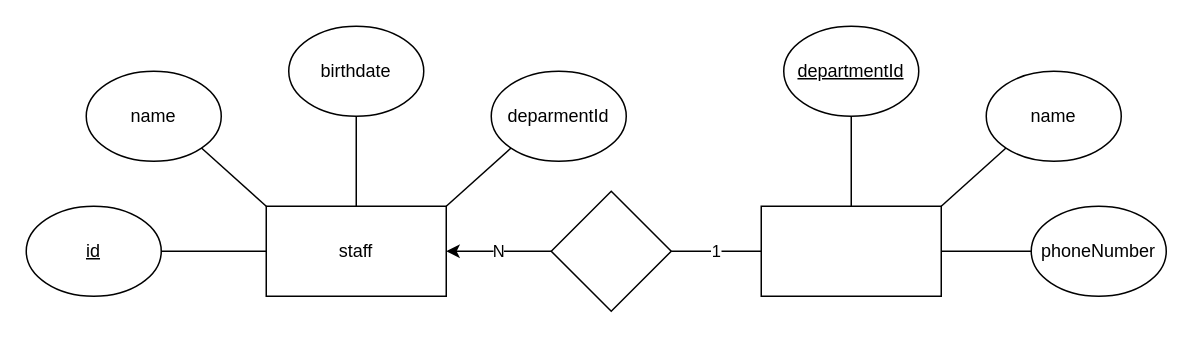
Image size: 1193x338. Some labels were removed from this diagram. The centre of each missing label's shape, as x and y in pixels:
Có: the point at 610,250
department: the point at 850,250
